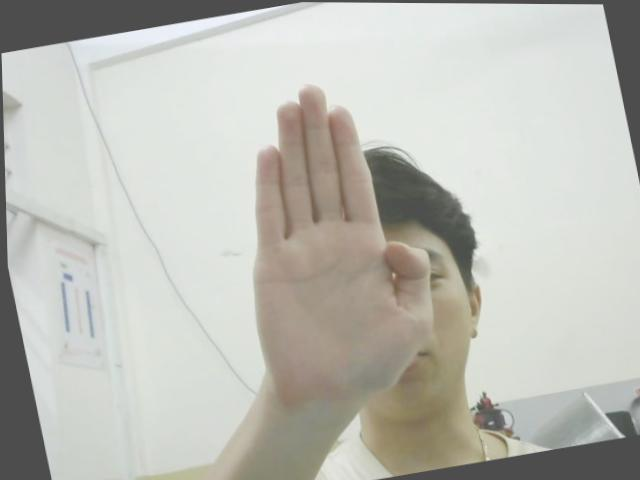B: (209, 67, 452, 413)
